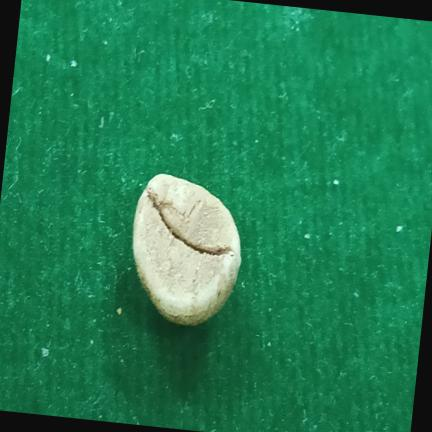good: (133, 174, 241, 325)
